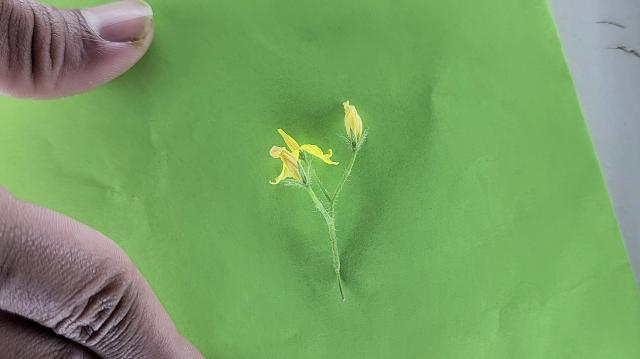Anthesis: (267, 127, 338, 186), (342, 100, 364, 145)
